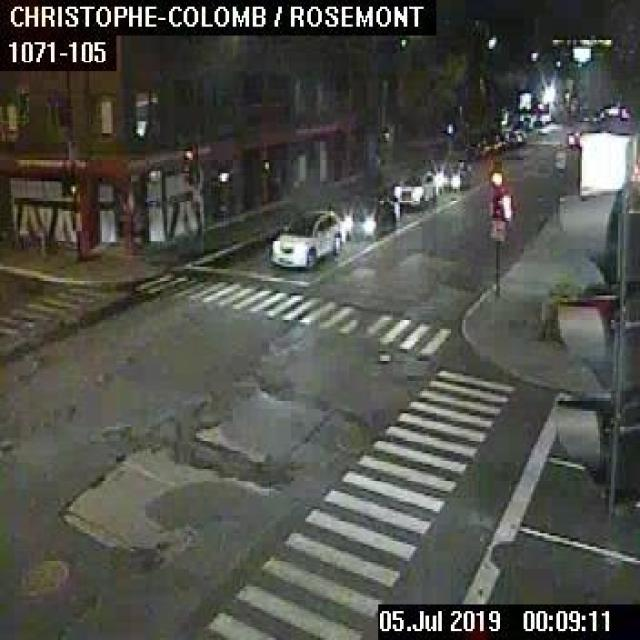vehicle: (271, 208, 343, 266), (342, 194, 394, 240), (392, 171, 437, 207), (434, 165, 468, 192), (515, 130, 525, 142)
